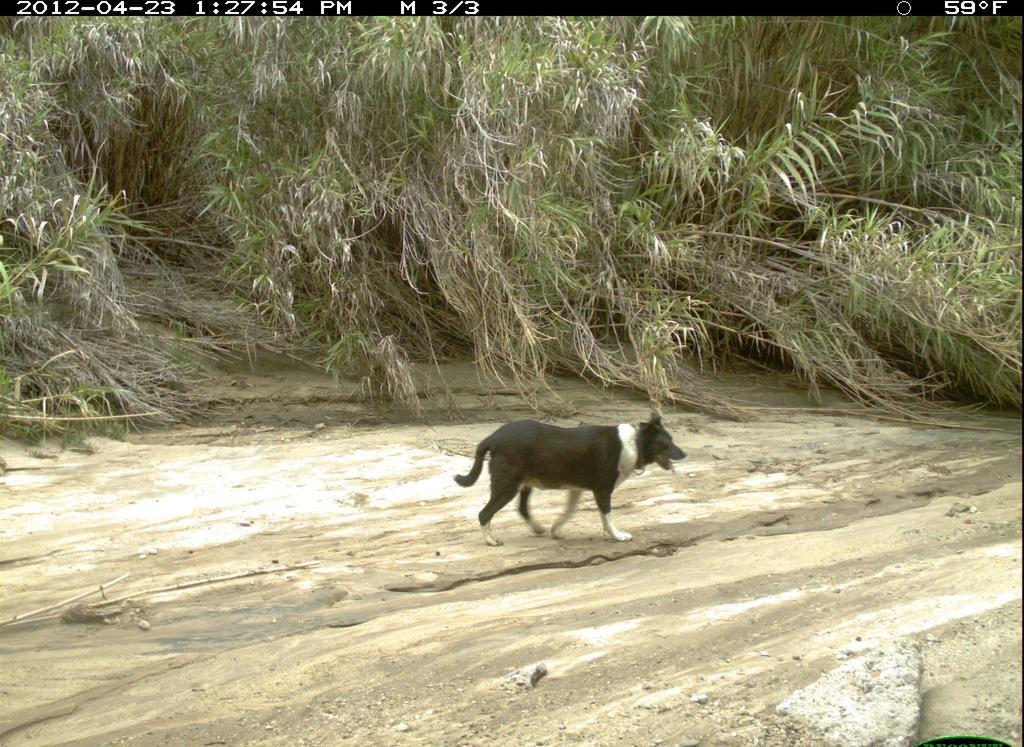dog: (446, 410, 689, 552)
